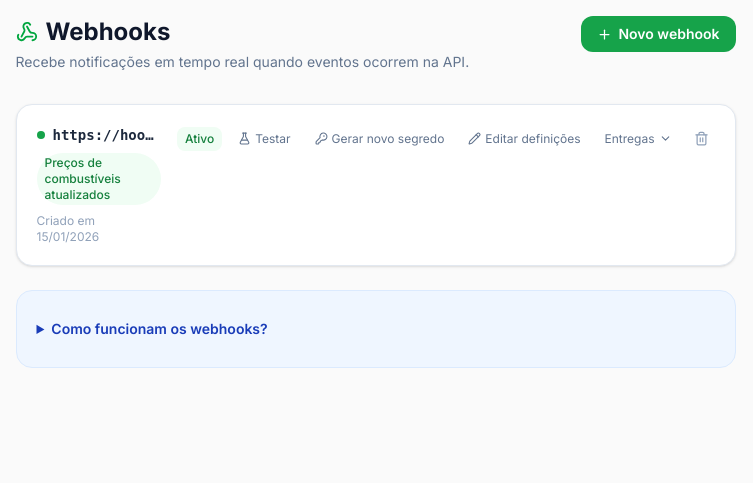
Webhooks page › shows a simple message when rotate-secret returns 404
Click the button "Gerar novo segredo".
click(380, 138)  # box [307, 126, 452, 150]
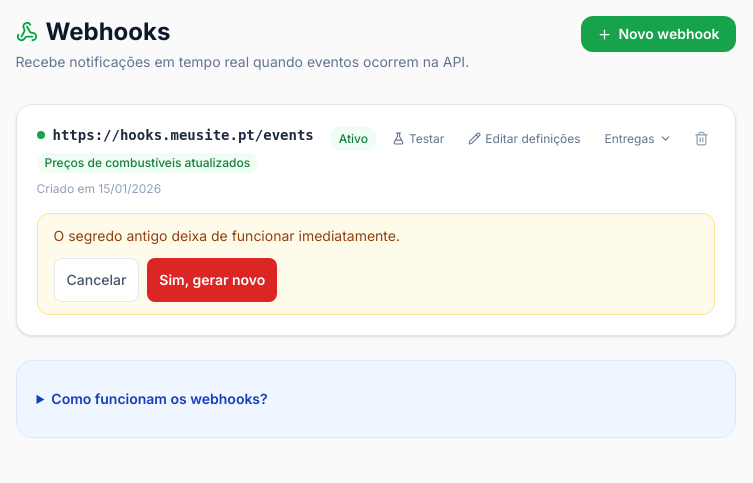
Click the button "Sim, gerar novo".
click(212, 280)  # box [147, 258, 277, 302]
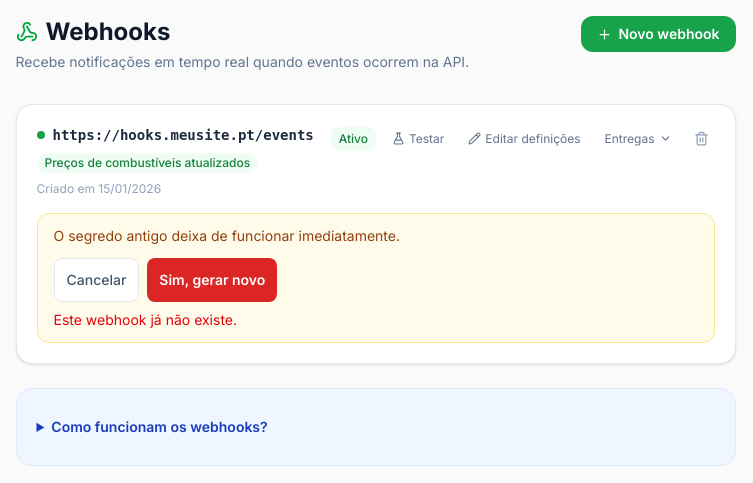
Result: the message reads "Este webhook já não existe." at [54, 311, 237, 328]
